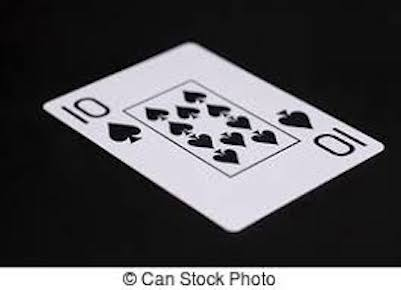TenOfSpades: (33, 38, 390, 236)
